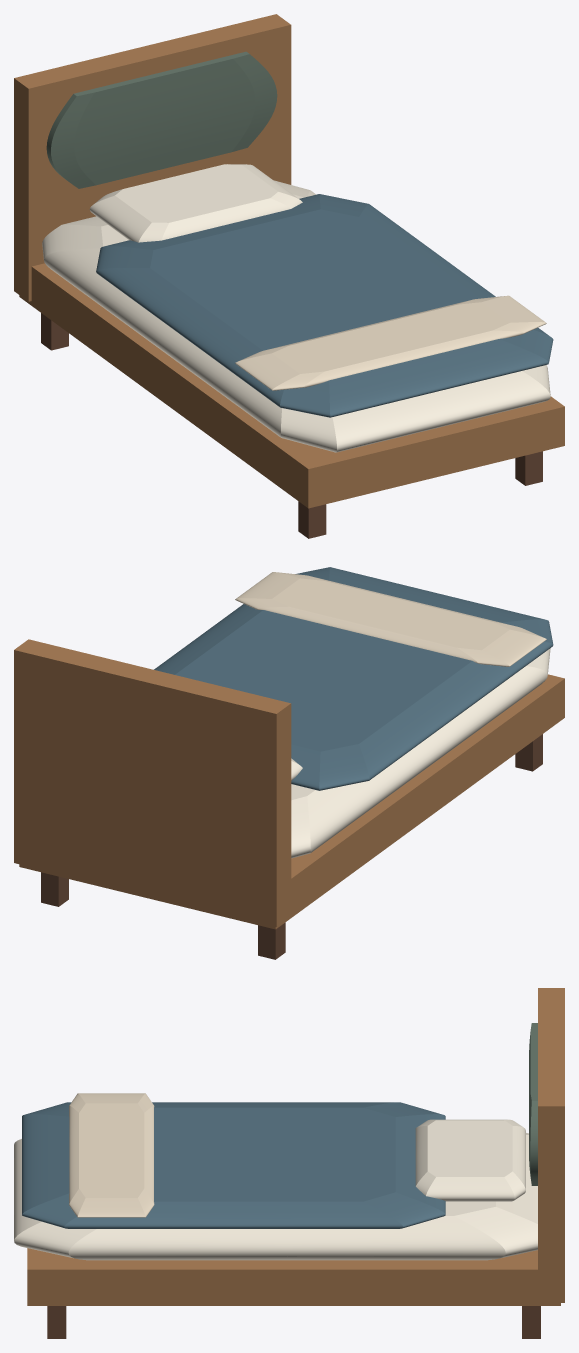
File: single_bed.glb
The picture shows the model from 3 angles, top to bottom: view 1: azimuth 30°, elevation 25°; view 2: azimuth 150°, elevation 25°; view 3: azimuth 270°, elevation 25°; orthographic projection. The views are drawn at different scales.
Parts seen in each view (by area): view 1: Duvet, Bed frame, Headboard, Headboard inset, Mattress, Folded blanket, Pillow, Leg, Leg.002, Leg.001; view 2: Headboard, Duvet, Bed frame, Folded blanket, Mattress, Leg.001, Leg.003, Leg; view 3: Duvet, Bed frame, Mattress, Folded blanket, Pillow, Headboard, Headboard inset, Leg.002, Leg.003.
Boxes of the visible parts, x1,y1,x2,y2 form: Duvet: (96, 194, 553, 417); Bed frame: (19, 263, 564, 508); Headboard: (14, 14, 291, 301); Headboard inset: (46, 51, 277, 188); Mattress: (42, 180, 550, 452); Folded blanket: (235, 295, 546, 390); Pillow: (89, 164, 302, 242); Leg: (298, 501, 326, 538); Leg.002: (515, 451, 542, 485); Leg.001: (41, 313, 68, 350); Headboard: (14, 639, 291, 926); Duvet: (154, 567, 553, 790); Bed frame: (19, 674, 564, 929); Folded blanket: (235, 572, 546, 666); Mattress: (291, 648, 550, 858); Leg.001: (258, 922, 285, 959); Leg.003: (41, 872, 68, 906); Leg: (515, 734, 542, 771); Duvet: (22, 1102, 445, 1228); Bed frame: (27, 1248, 560, 1305); Mattress: (14, 1133, 537, 1260); Folded blanket: (69, 1093, 154, 1217); Pillow: (415, 1119, 525, 1201); Headboard: (538, 988, 564, 1302); Headboard inset: (529, 1023, 537, 1185); Leg.002: (47, 1306, 66, 1338); Leg.003: (522, 1306, 540, 1338).
Bounding box in the file's own units: 1.14 × 1.03 × 2.15.
